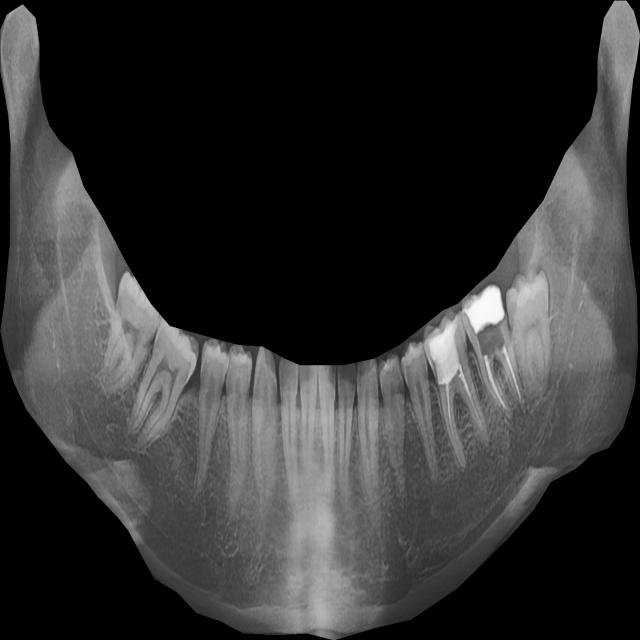mandibula: (0, 1, 640, 640)
